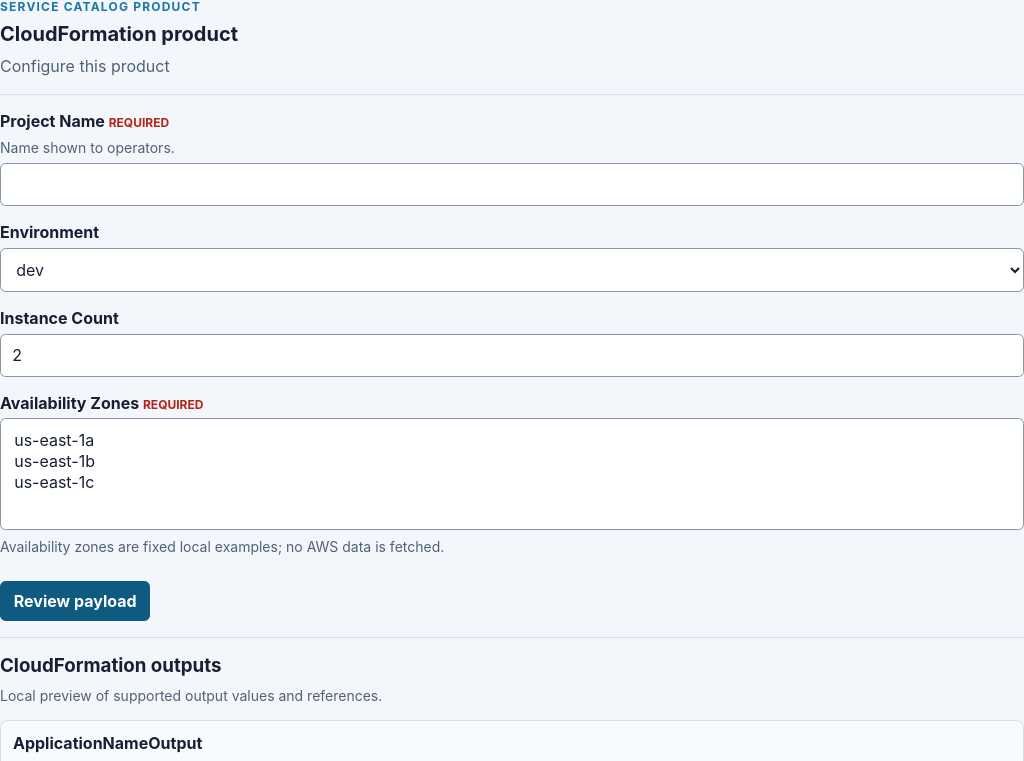
Test: ProvisioningForm › renders CloudFormation outputs with live Ref values, descriptions, and unsupported expressions
Step 1. Type "catalog-demo" into the field labelled "Project Name" → point(512, 185), box [0,163,1023,206]
(page scrolled)
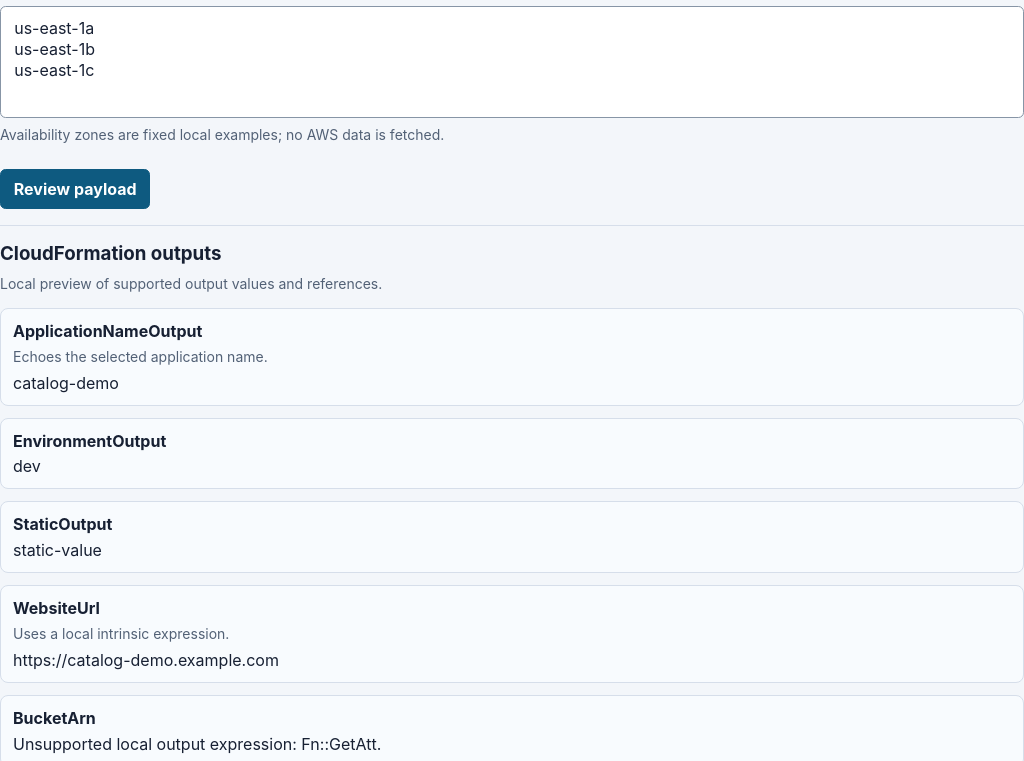
Check: the element "CloudFormation outputs" shows "catalog-demo", box [13,373,119,393]
Check: the element "CloudFormation outputs" shows "https://catalog-demo.example.com", box [13,650,279,670]
